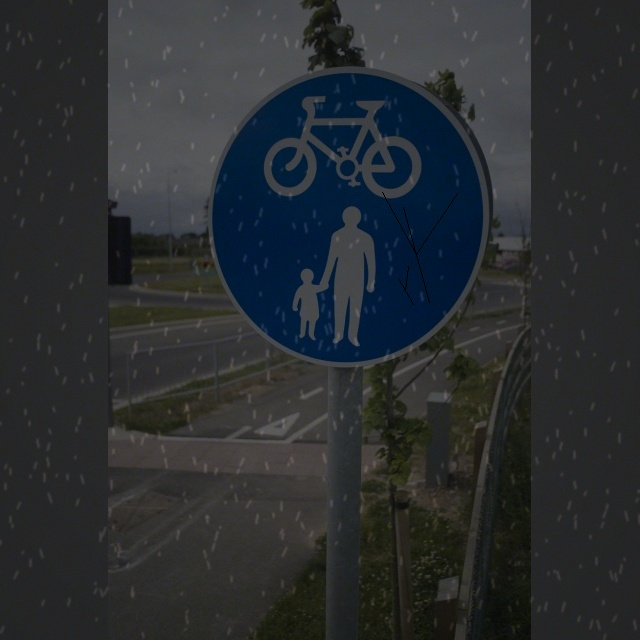Compulsory_Cycle_Track: (216, 66, 493, 354)
